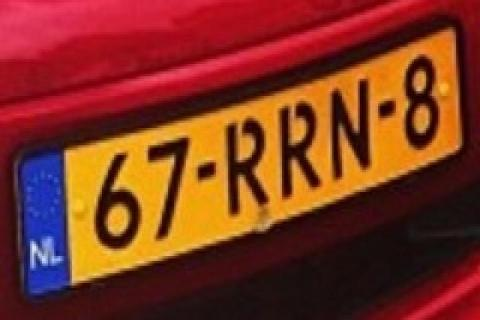LicensePlate: (8, 21, 470, 301)
